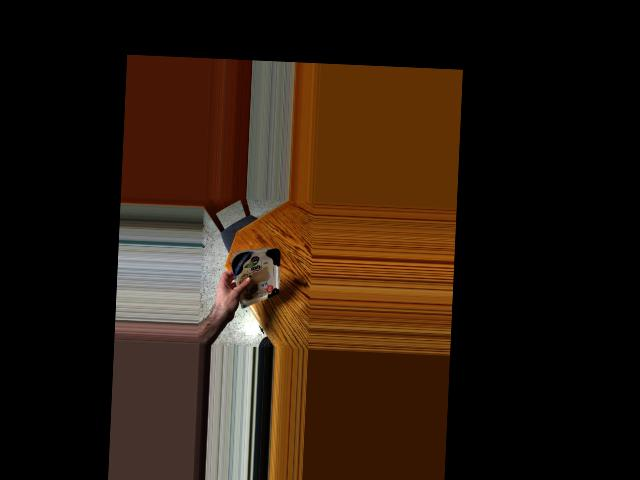cheese: (237, 245, 276, 305)
